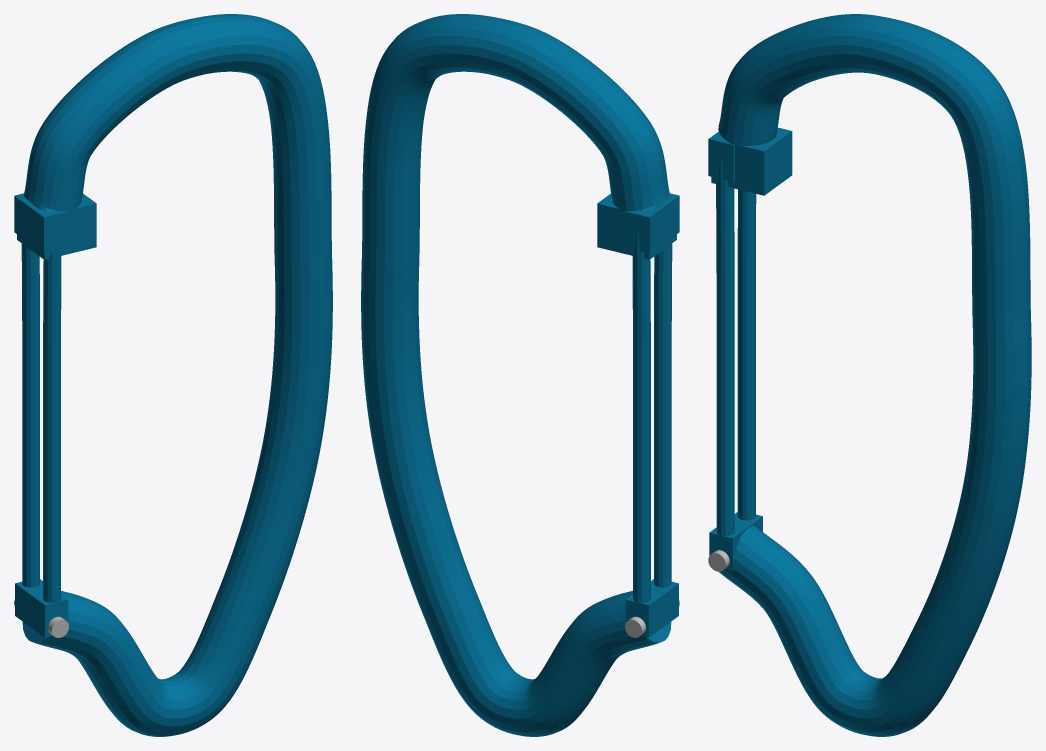
File: Sports_Carabiner__0004.glb
The picture shows the model from 3 angles, left to right: view 1: azimuth 30°, elevation 25°; view 2: azimuth 150°, elevation 25°; view 3: azimuth 330°, elevation 25°; orthographic projection.
Parts seen in each view (by area): view 1: body::body_loop, gate::wire_loop, gate::wire_latch_tip, gate::wire_hinge_plate, body::nose_lug; view 2: body::body_loop, gate::wire_loop, gate::wire_latch_tip, gate::wire_hinge_plate, body::nose_lug; view 3: body::body_loop, gate::wire_loop, body::nose_lug, gate::wire_hinge_plate, gate::wire_latch_tip.
Boxes of the visible parts, x1=… form: body::body_loop: x1=22, y1=14, x2=332, y2=736; gate::wire_loop: x1=21, y1=201, x2=61, y2=602; gate::wire_latch_tip: x1=14, y1=193, x2=68, y2=253; gate::wire_hinge_plate: x1=15, y1=579, x2=68, y2=637; body::nose_lug: x1=17, y1=193, x2=96, y2=259; body::body_loop: x1=361, y1=14, x2=671, y2=736; gate::wire_loop: x1=632, y1=201, x2=672, y2=602; gate::wire_latch_tip: x1=625, y1=193, x2=679, y2=253; gate::wire_hinge_plate: x1=625, y1=579, x2=678, y2=637; body::nose_lug: x1=597, y1=193, x2=676, y2=259; body::body_loop: x1=718, y1=14, x2=1031, y2=736; gate::wire_loop: x1=716, y1=160, x2=756, y2=535; body::nose_lug: x1=711, y1=127, x2=792, y2=195; gate::wire_hinge_plate: x1=709, y1=512, x2=762, y2=571; gate::wire_latch_tip: x1=708, y1=131, x2=734, y2=181.
Bounding box in the file's own units: 0.0433 × 0.0969 × 0.00943.
Materials: 2 (1 with a texture image).
